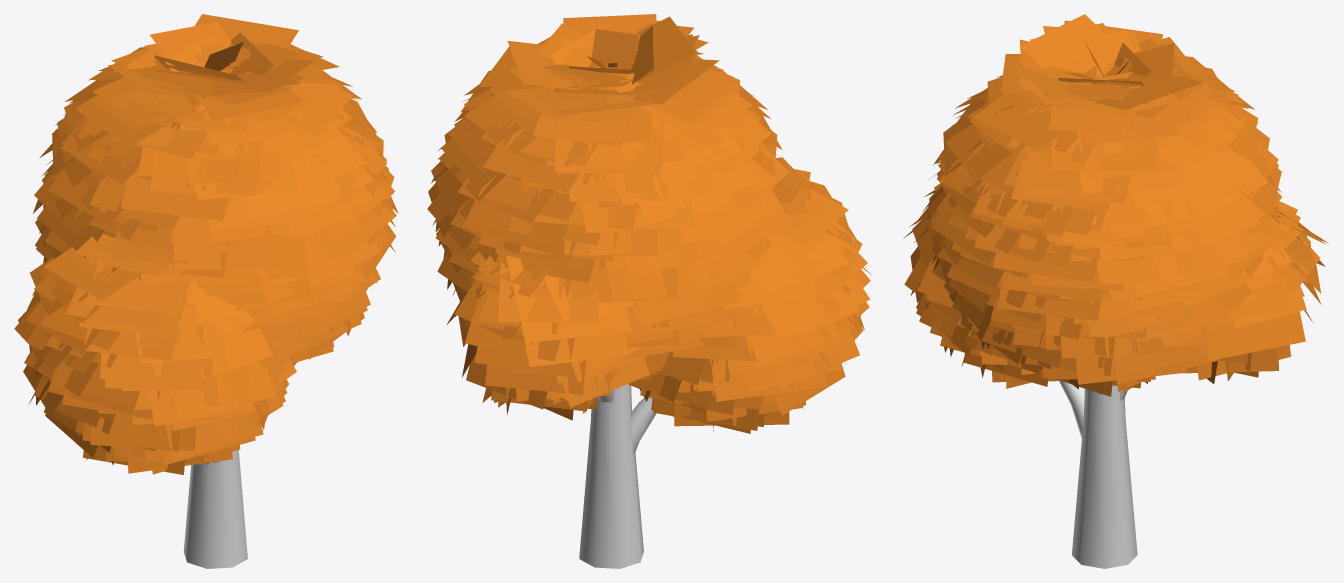
Rendered from TREESITIO.fbx.
The picture shows the model from 3 angles, left to right: view 1: azimuth 30°, elevation 25°; view 2: azimuth 150°, elevation 25°; view 3: azimuth 270°, elevation 25°; orthographic projection.
Visible parts, largest first — view 1: Plane, Circle; view 2: Plane, Circle, Circle.002; view 3: Plane, Circle, Circle.002.
Part boxes in pixels (x1,y1,x2,y2): Plane: [14, 14, 398, 474]; Circle: [183, 450, 247, 568]; Plane: [427, 14, 871, 433]; Circle: [579, 384, 643, 568]; Circle.002: [631, 397, 656, 454]; Plane: [903, 14, 1328, 396]; Circle: [1071, 385, 1137, 568]; Circle.002: [1058, 380, 1084, 438].
Size of the model in its own units: 1280 by 1700 by 1300.
